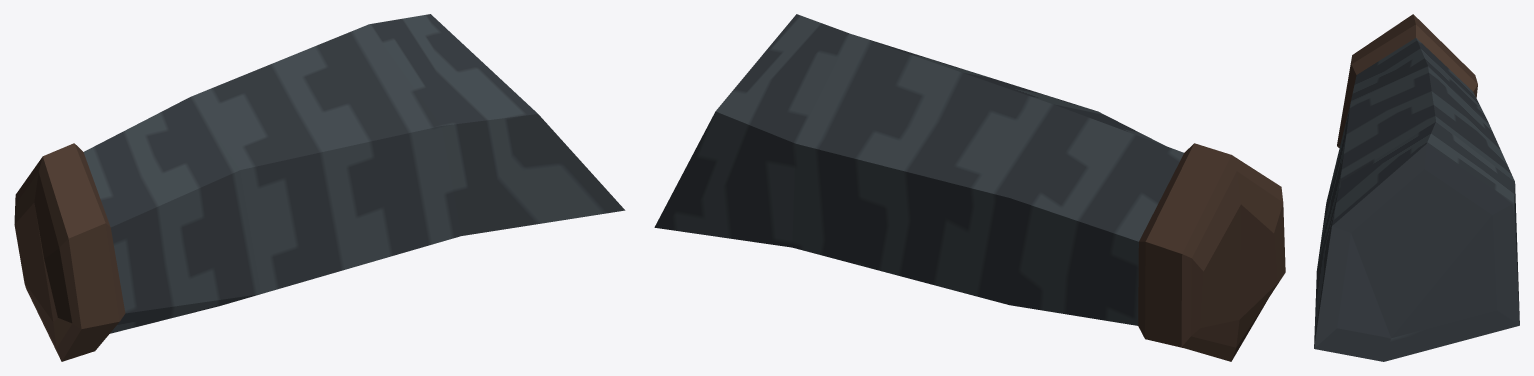
The model's file is Chr_ArmUpperRight_Female_18_Static.fbx.
3 views of the same model, side by side, from view 1: azimuth 30°, elevation 25°; view 2: azimuth 150°, elevation 25°; view 3: azimuth 270°, elevation 25° (orthographic). The views are drawn at different scales.
Visible parts, largest first — view 1: Chr_ArmUpperRight_Female_18_Static; view 2: Chr_ArmUpperRight_Female_18_Static; view 3: Chr_ArmUpperRight_Female_18_Static.
Part boxes in pixels (box(x1,y1,x2,y2)): Chr_ArmUpperRight_Female_18_Static: box(14, 14, 625, 361); Chr_ArmUpperRight_Female_18_Static: box(654, 14, 1285, 361); Chr_ArmUpperRight_Female_18_Static: box(1314, 14, 1519, 361).
Size of the model in its own units: 0.3512 by 0.149 by 0.136.
